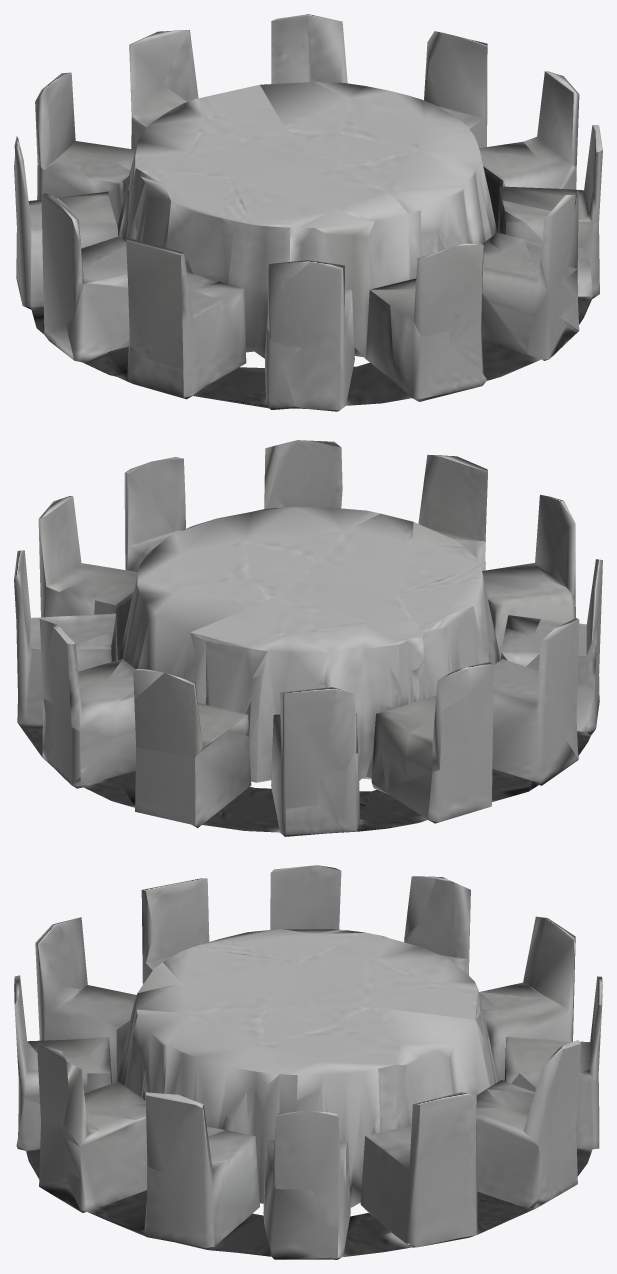
Rendered from meja_kursi_putih_lod2.glb.
The picture shows the model from 3 angles, top to bottom: view 1: azimuth 30°, elevation 25°; view 2: azimuth 150°, elevation 25°; view 3: azimuth 270°, elevation 25°; orthographic projection.
Visible parts, largest first — view 1: tripo_node_721a48cb-dd4e-4f86-9613-62b6da3a4254; view 2: tripo_node_721a48cb-dd4e-4f86-9613-62b6da3a4254; view 3: tripo_node_721a48cb-dd4e-4f86-9613-62b6da3a4254.
Part boxes in pixels (bbox=[...]): tripo_node_721a48cb-dd4e-4f86-9613-62b6da3a4254: bbox=[14, 14, 602, 411]; tripo_node_721a48cb-dd4e-4f86-9613-62b6da3a4254: bbox=[14, 440, 602, 836]; tripo_node_721a48cb-dd4e-4f86-9613-62b6da3a4254: bbox=[14, 865, 602, 1259].
Size of the model in its own units: 0.9969 by 0.2885 by 1.
Materials: 1 (1 with a texture image).
